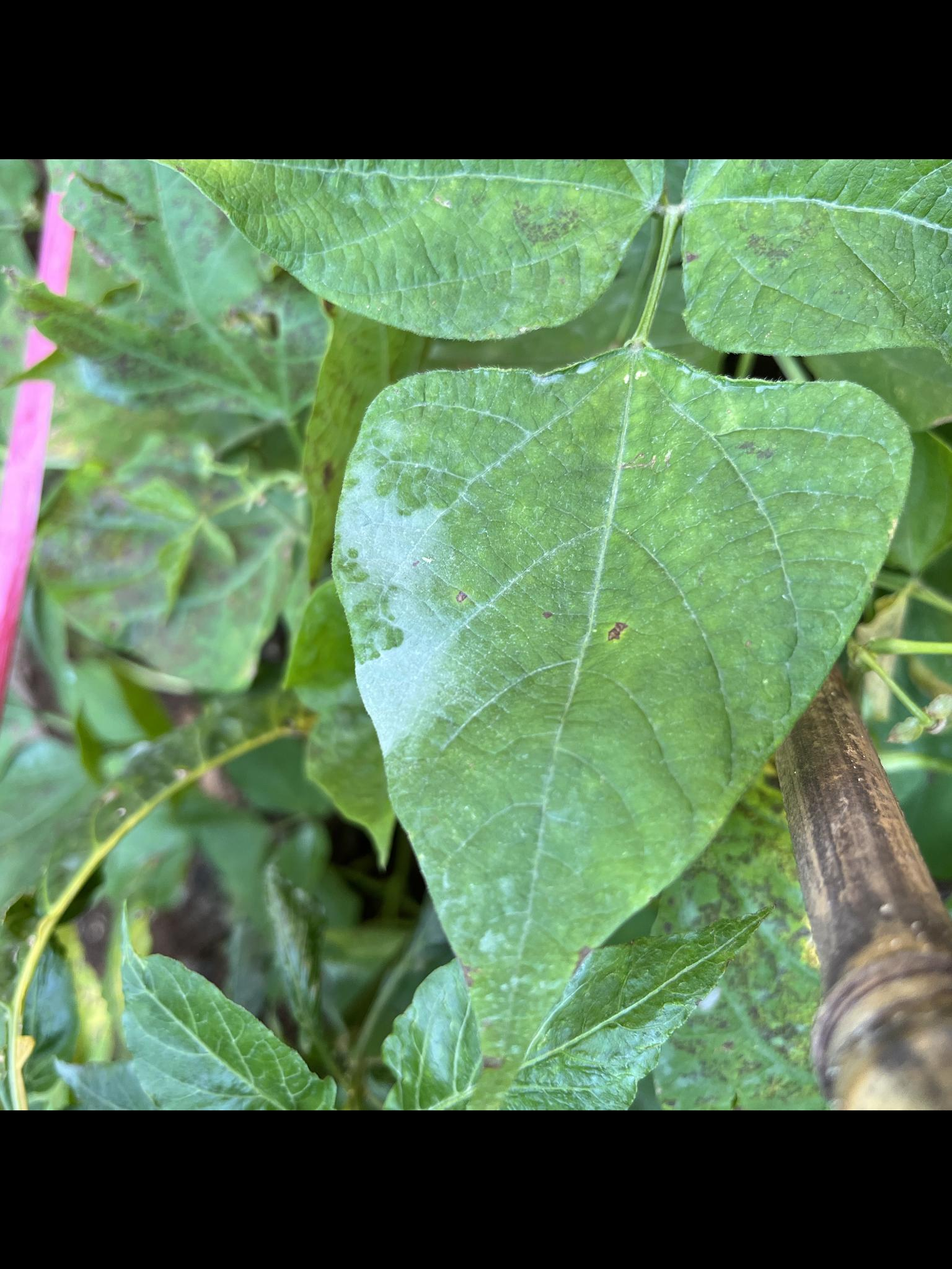embun tepung: (330, 469, 465, 767)
